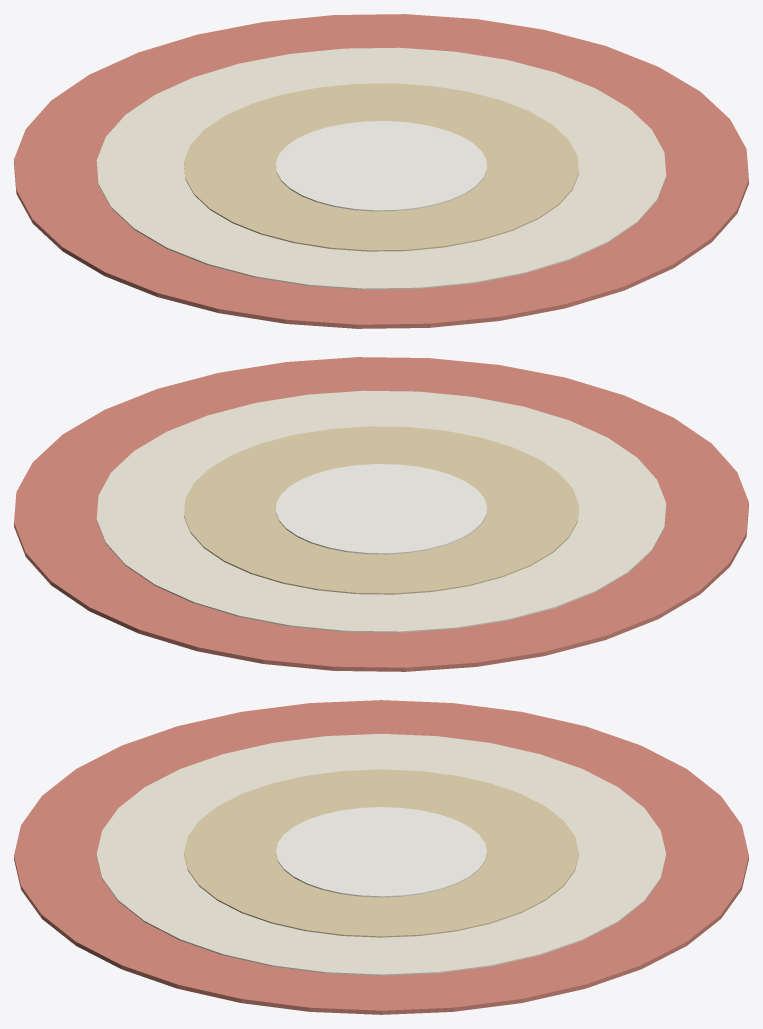
Rendered from 18-Casas_alfombra.glb.
3 views of the same model, one above another, from view 1: azimuth 30°, elevation 25°; view 2: azimuth 150°, elevation 25°; view 3: azimuth 270°, elevation 25° (orthographic).
Parts seen in each view (by area): view 1: SM_Alfombra_Anillo_0, SM_Alfombra_Anillo_1, SM_Alfombra_Anillo_2, SM_Alfombra_Anillo_3; view 2: SM_Alfombra_Anillo_0, SM_Alfombra_Anillo_1, SM_Alfombra_Anillo_2, SM_Alfombra_Anillo_3; view 3: SM_Alfombra_Anillo_0, SM_Alfombra_Anillo_1, SM_Alfombra_Anillo_2, SM_Alfombra_Anillo_3.
Part boxes in pixels (x1,y1,x2,y2): SM_Alfombra_Anillo_0: (14,14,748,328); SM_Alfombra_Anillo_1: (96,47,666,289); SM_Alfombra_Anillo_2: (184,83,578,251); SM_Alfombra_Anillo_3: (276,121,486,211); SM_Alfombra_Anillo_0: (14,357,748,671); SM_Alfombra_Anillo_1: (96,390,666,632); SM_Alfombra_Anillo_2: (184,426,578,594); SM_Alfombra_Anillo_3: (276,464,486,554); SM_Alfombra_Anillo_0: (14,700,748,1014); SM_Alfombra_Anillo_1: (96,733,666,975); SM_Alfombra_Anillo_2: (184,769,578,937); SM_Alfombra_Anillo_3: (276,807,486,897).
Size of the model in its own units: 3.2 by 0.038 by 3.2.
